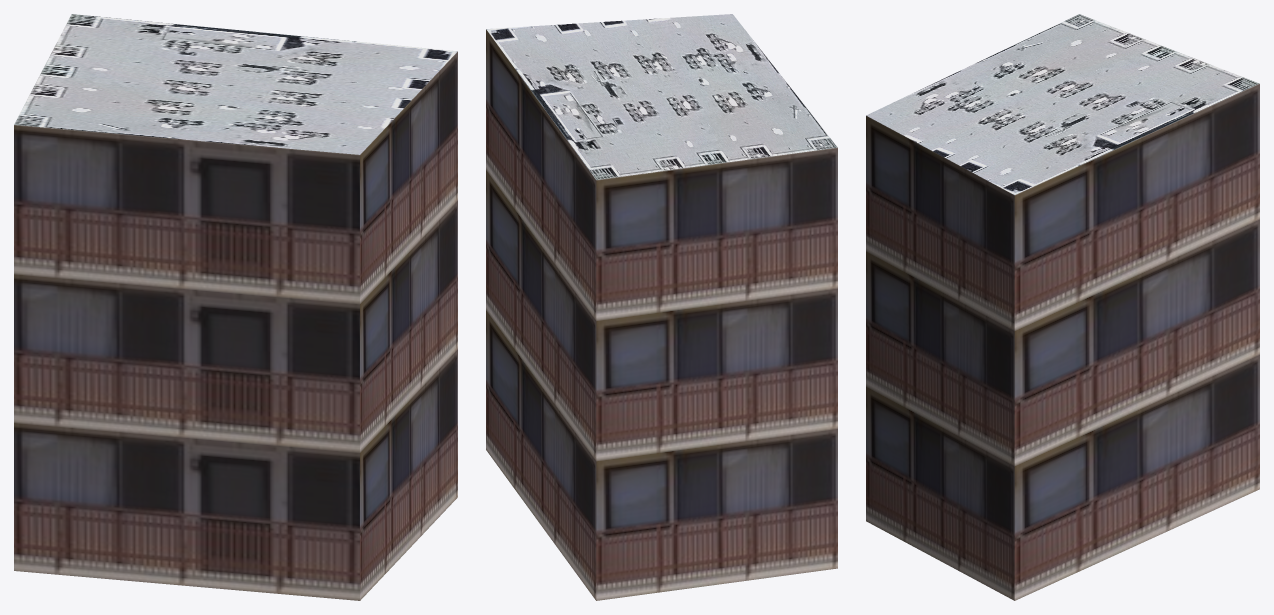
Rendered from ResTex__4333.fbx.
The picture shows the model from 3 angles, left to right: view 1: azimuth 30°, elevation 25°; view 2: azimuth 150°, elevation 25°; view 3: azimuth 270°, elevation 25°; orthographic projection. The views are drawn at different scales.
Visible parts, largest first — view 1: CityEngineMaterial_6_m, CityEngineMaterial_4_m; view 2: CityEngineMaterial_6_m, CityEngineMaterial_4_m; view 3: CityEngineMaterial_6_m, CityEngineMaterial_4_m.
Boxes of the visible parts, x1=… form: CityEngineMaterial_6_m: x1=14, y1=51, x2=457, y2=600; CityEngineMaterial_4_m: x1=14, y1=14, x2=457, y2=154; CityEngineMaterial_6_m: x1=486, y1=29, x2=837, y2=600; CityEngineMaterial_4_m: x1=486, y1=14, x2=837, y2=179; CityEngineMaterial_6_m: x1=866, y1=84, x2=1259, y2=600; CityEngineMaterial_4_m: x1=866, y1=14, x2=1259, y2=194.
Size of the model in its own units: 8.62 by 9 by 7.92.
2 materials, 2 textured.
